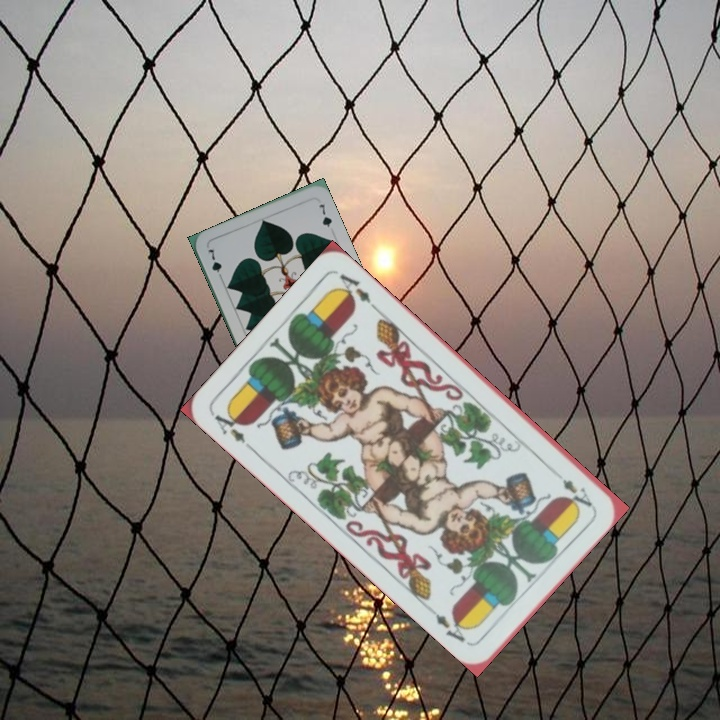EA: (210, 404, 257, 453), (558, 475, 595, 510)
G7: (204, 245, 226, 282)
